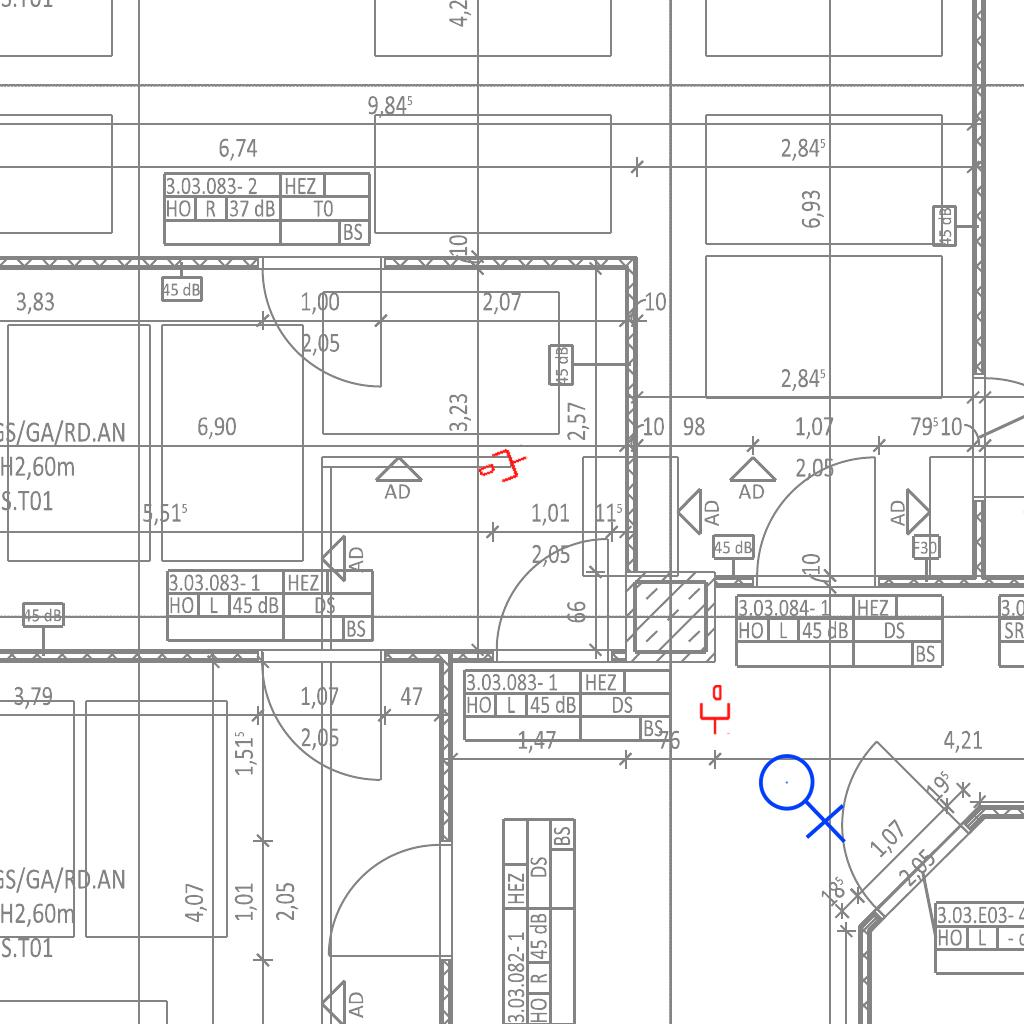Datenanschluss_einfach: (474, 441, 534, 491), (698, 685, 732, 735)
Elektroanschluss_allgemein_230V_Geraeteanschlussdose_230V: (757, 745, 851, 844)
